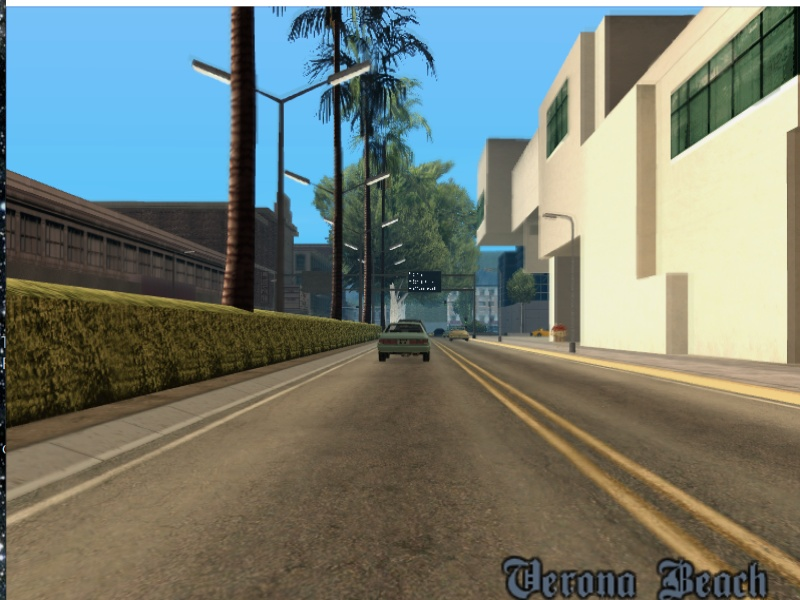pole: (275, 103, 290, 315), (568, 219, 584, 358)
tree: (225, 12, 263, 310)
vehicle: (376, 322, 432, 364), (447, 325, 471, 343)
